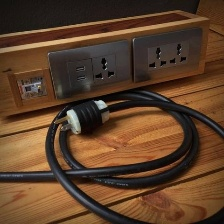three_eye_plug: (43, 35, 134, 104), (130, 22, 207, 87)
